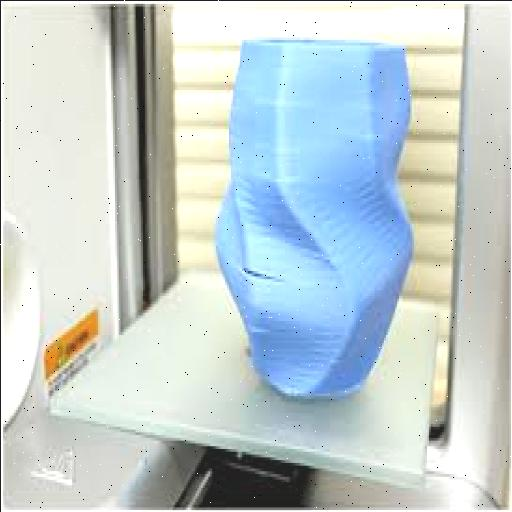cracks: (212, 226, 310, 332)
